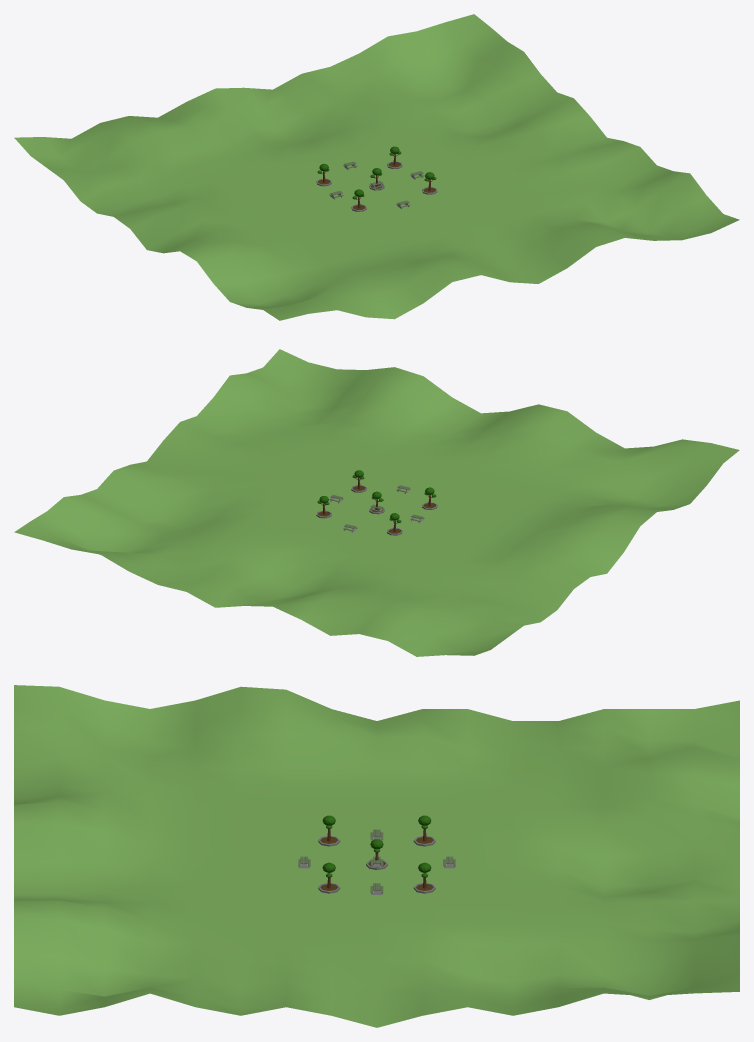
Rendered from X and O environment.fbx.
3 renders of one model, top to bottom at view 1: azimuth 30°, elevation 25°; view 2: azimuth 150°, elevation 25°; view 3: azimuth 270°, elevation 25°, orthographic. The views are drawn at different scales.
Visible parts, largest first — view 1: Plane, Cylinder; view 2: Plane, Cylinder; view 3: Plane, Cylinder, Cube.001.
Boxes of the visible parts, x1,y1,x2,y2 form: Plane: [14, 14, 739, 320]; Cylinder: [316, 146, 437, 211]; Plane: [14, 349, 739, 656]; Cylinder: [316, 470, 437, 535]; Plane: [14, 685, 739, 1027]; Cylinder: [318, 815, 435, 893]; Cube.001: [298, 829, 455, 894].
Size of the model in its own units: 72962 by 5344 by 72962.
